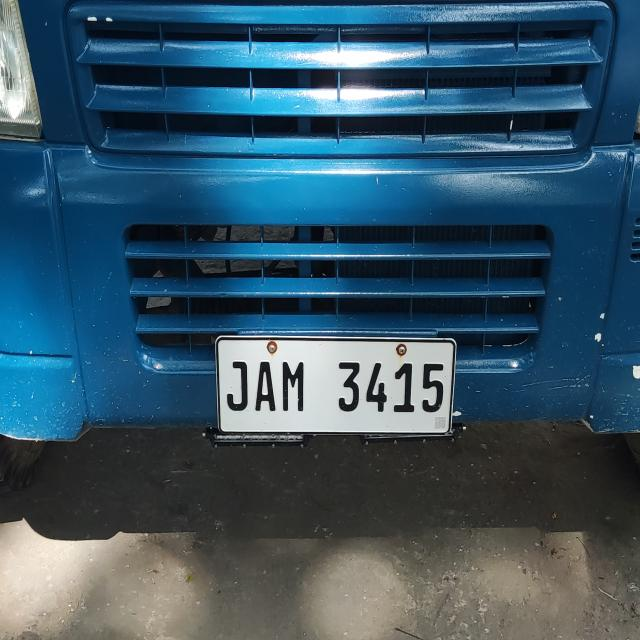plate: (214, 333, 458, 438)
